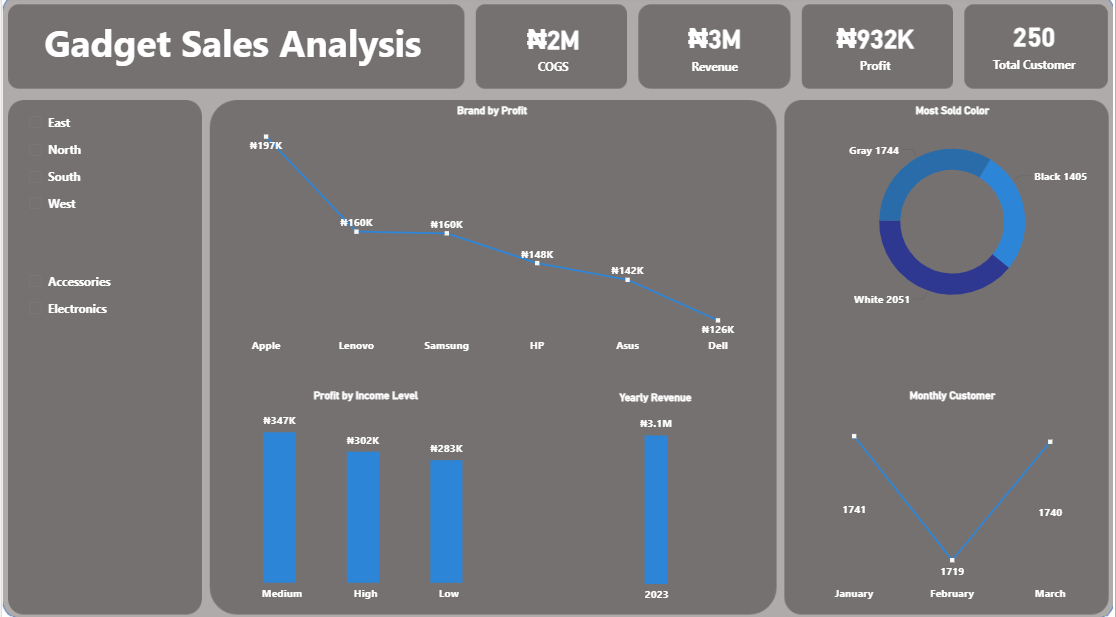

This screenshot's page, from the dashboard's own definition file:
{"tool":"powerbi","page":{"name":"Dashboard","canvas":[1280,720],"ordinal":1},"visuals":[{"type":"lineChart","title":"Brand by Profit","fields":{"Category":["Product2.Brand"],"Y":["Sales3.Profit"]},"box":[257,125.5,612.9,295.6],"z":1000},{"type":"columnChart","fields":{"Category":["Customer1.Income Level"],"Y":["Sales3.Profit"]},"box":[257,452.4,322.1,252.1],"z":2000},{"type":"columnChart","title":"Yearly Revenue","fields":{"Category":["Sales3.Sale Date.Variation.Date Hierarchy.Year"],"Y":["Sales3.Revenue Measure"]},"box":[634.6,453.6,235.3,252.1],"z":3000},{"type":"donutChart","title":" Most Sold Color","fields":{"Category":["Product2.Color"],"Y":["CountNonNull(Sales3.Product ID)"]},"box":[930.2,125.5,325.7,255.8],"z":4000},{"type":"stackedAreaChart","title":"Monthly Customer","fields":{"Category":["Sales3.Sale Date.Variation.Date Hierarchy.Month"],"Y":["Sales3.Customer ID Measure"]},"box":[930.2,452.4,325.7,252.1],"z":5000},{"type":"slicer","fields":{"Values":["Customer1.Region"]},"box":[19.3,125.5,196.6,161.7],"z":6000},{"type":"slicer","fields":{"Values":["Product2.Category"]},"box":[19.3,307.6,196.6,130.3],"z":7000},{"type":"card","fields":{"Values":["Sales3.COGS Measure"]},"box":[559.8,18.1,149.6,78.4],"z":8000},{"type":"card","fields":{"Values":["Sales3.Revenue Measure"]},"box":[745.6,18.1,147.2,77.2],"z":9000},{"type":"card","fields":{"Values":["Sales3.Profit"]},"box":[930.2,18.1,148.4,76],"z":10000},{"type":"card","fields":{"Values":["Customer1.Total Customer C Measure"]},"box":[1118.4,15.7,137.5,78.4],"z":11000},{"type":"textbox","box":[19.3,18.1,493.4,78.4],"z":12000}]}

Visuals, with their boxes in screenshot pixels (x1, y1, x2, y2), scaled from the page's 1280x720 canvas onto the 1116x617 screenshot:
"Brand by Profit" lineChart: locate(224, 108, 758, 361)
columnChart - Customer1.Income Level x Sales3.Profit: locate(224, 388, 505, 604)
"Yearly Revenue" columnChart: locate(553, 389, 758, 605)
" Most Sold Color" donutChart: locate(811, 108, 1095, 327)
"Monthly Customer" stackedAreaChart: locate(811, 388, 1095, 604)
slicer - Customer1.Region: locate(17, 108, 188, 246)
slicer - Product2.Category: locate(17, 264, 188, 375)
card - Sales3.COGS Measure: locate(488, 16, 619, 83)
card - Sales3.Revenue Measure: locate(650, 16, 778, 82)
card - Sales3.Profit: locate(811, 16, 940, 81)
card - Customer1.Total Customer C Measure: locate(975, 13, 1095, 81)
textbox: locate(17, 16, 447, 83)
